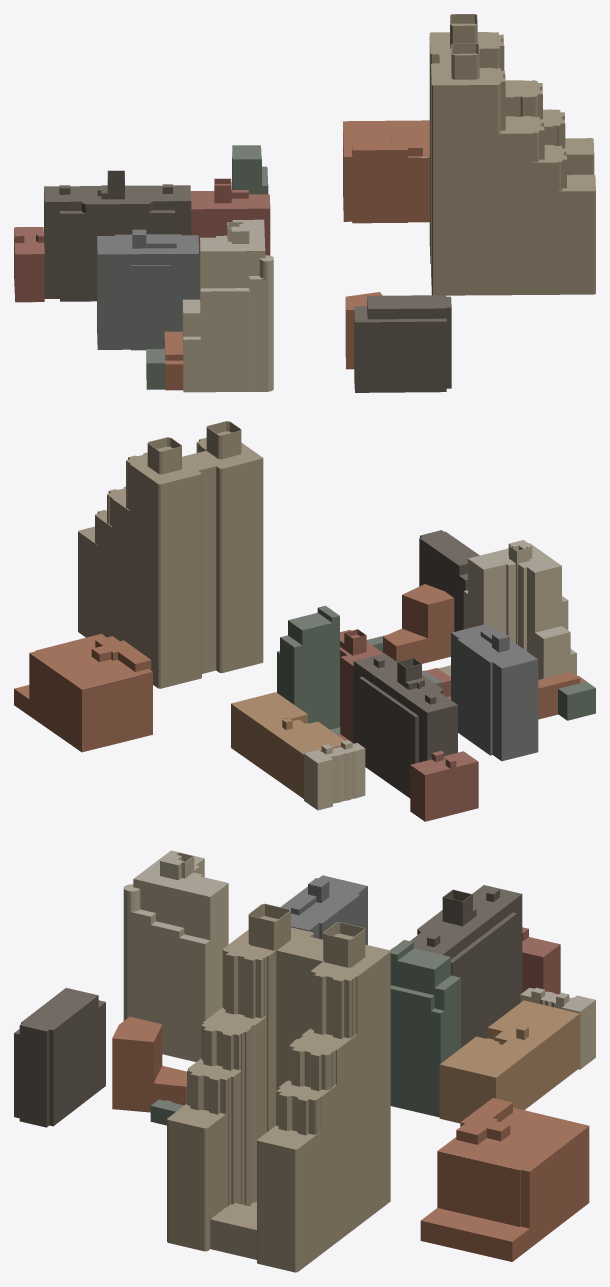
The model's file is tile-10_-8.glb.
3 renders of one model, top to bottom at view 1: azimuth 30°, elevation 25°; view 2: azimuth 150°, elevation 25°; view 3: azimuth 270°, elevation 25°, orthographic. The views are drawn at different scales.
Visible parts, largest first — view 1: wall, roof; view 2: wall, roof; view 3: wall, roof.
Part boxes in pixels (bbox=[...]): wall: bbox=[14, 14, 595, 392]; roof: bbox=[14, 14, 595, 364]; wall: bbox=[14, 421, 595, 821]; roof: bbox=[14, 421, 595, 774]; wall: bbox=[14, 853, 595, 1272]; roof: bbox=[14, 850, 595, 1241].
Bounding box in the file's own units: 239 × 110 × 204.
